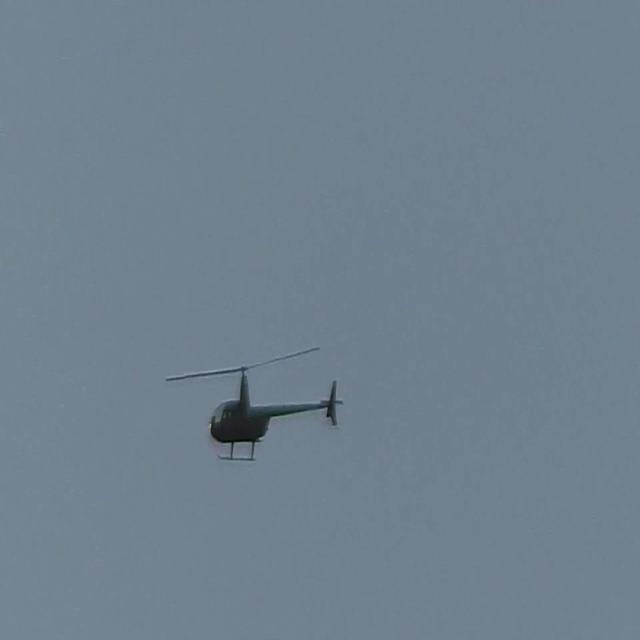CIV_HELO: (209, 363, 344, 462)
